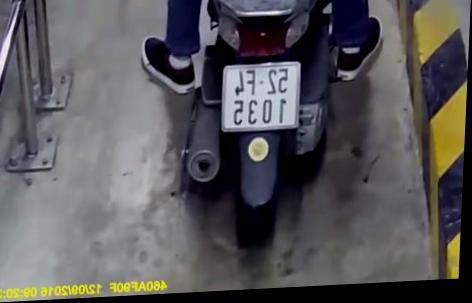License_Plate: (211, 56, 307, 138)
